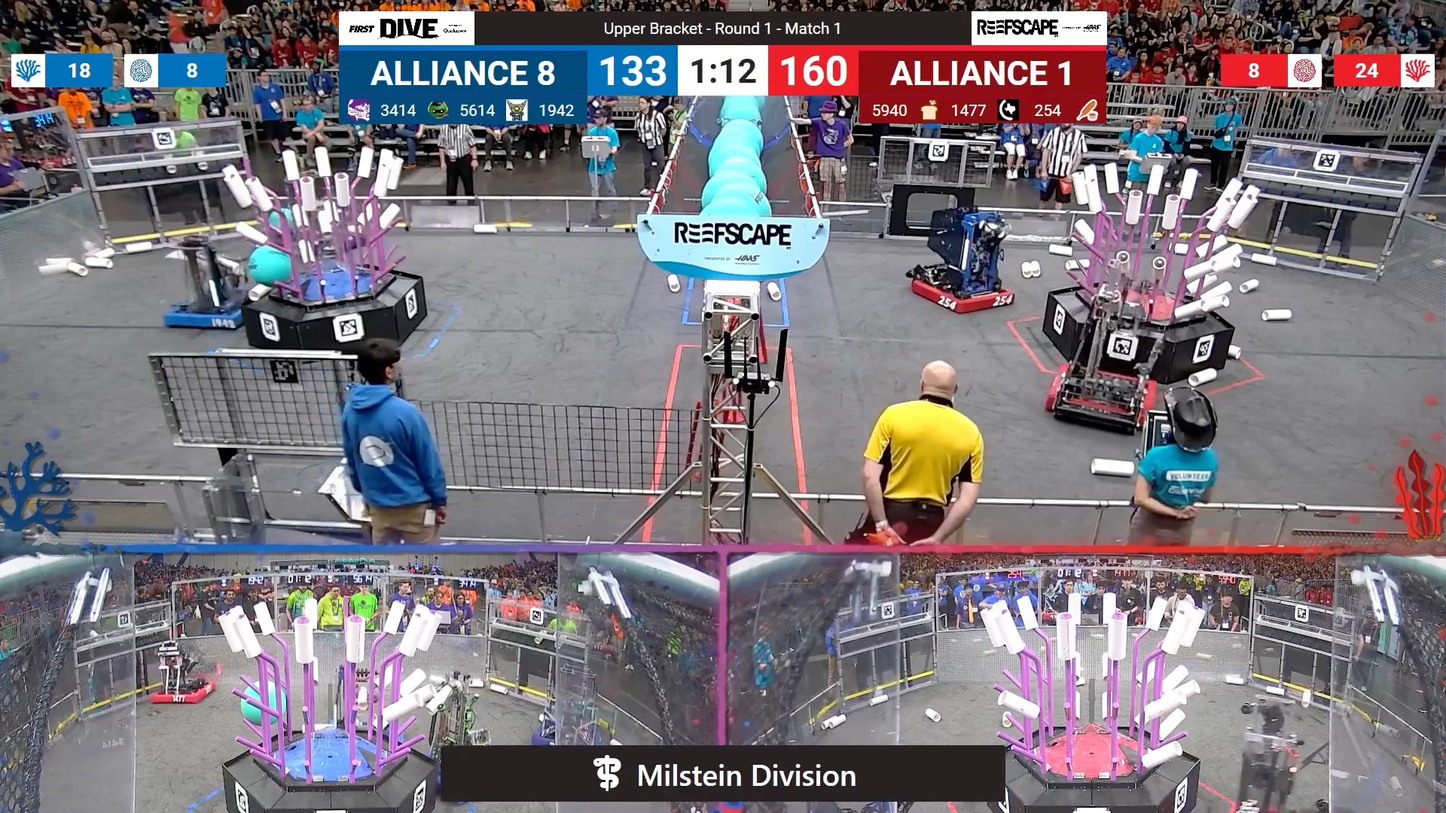bumpers: (1039, 362, 1164, 439), (901, 267, 1024, 317), (161, 288, 255, 336), (142, 678, 222, 706)
